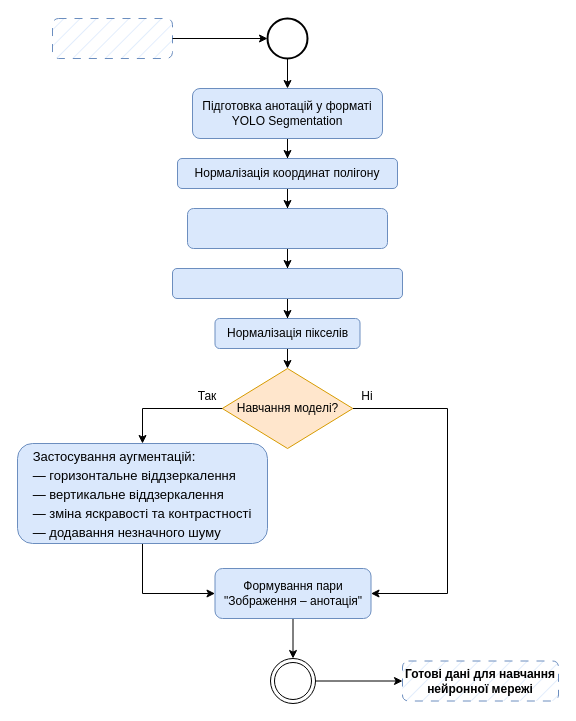
Image size: 576x721. Some labels were removed from this diagram. The box of each missing label's shape, as (x1, y1, x2, y2) in pixels:
Вхідне зображення та анотація: (52, 18, 172, 58)
Доповнення полями до 1280x1280 px: (172, 268, 402, 298)
Масштабування зображень із збереженням пропорцій: (186, 208, 388, 248)
